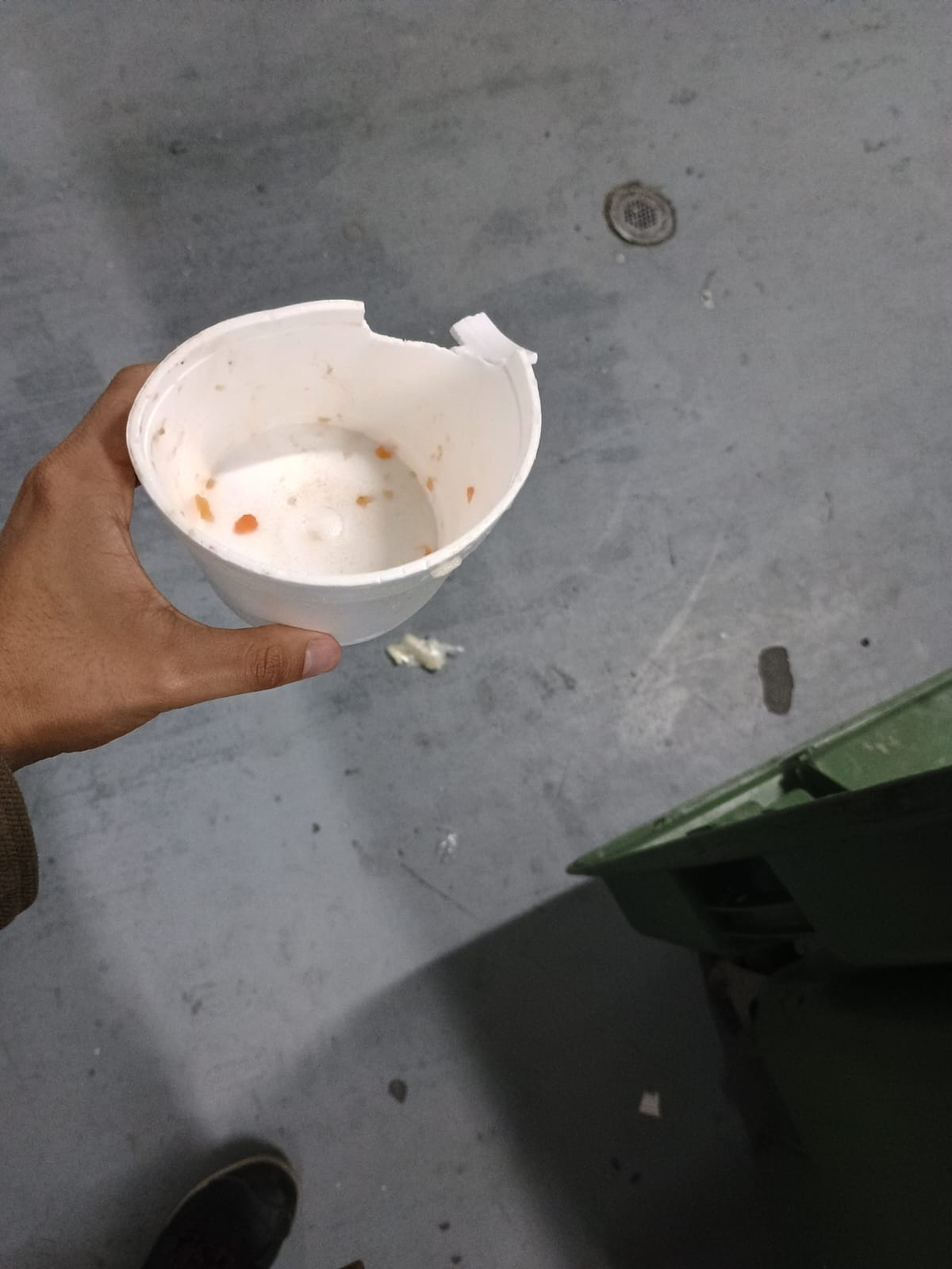Ordinario: (122, 299, 542, 650)
